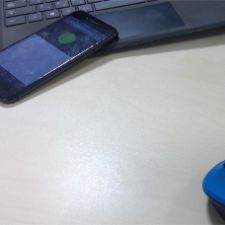focus: (52, 26, 79, 47)
